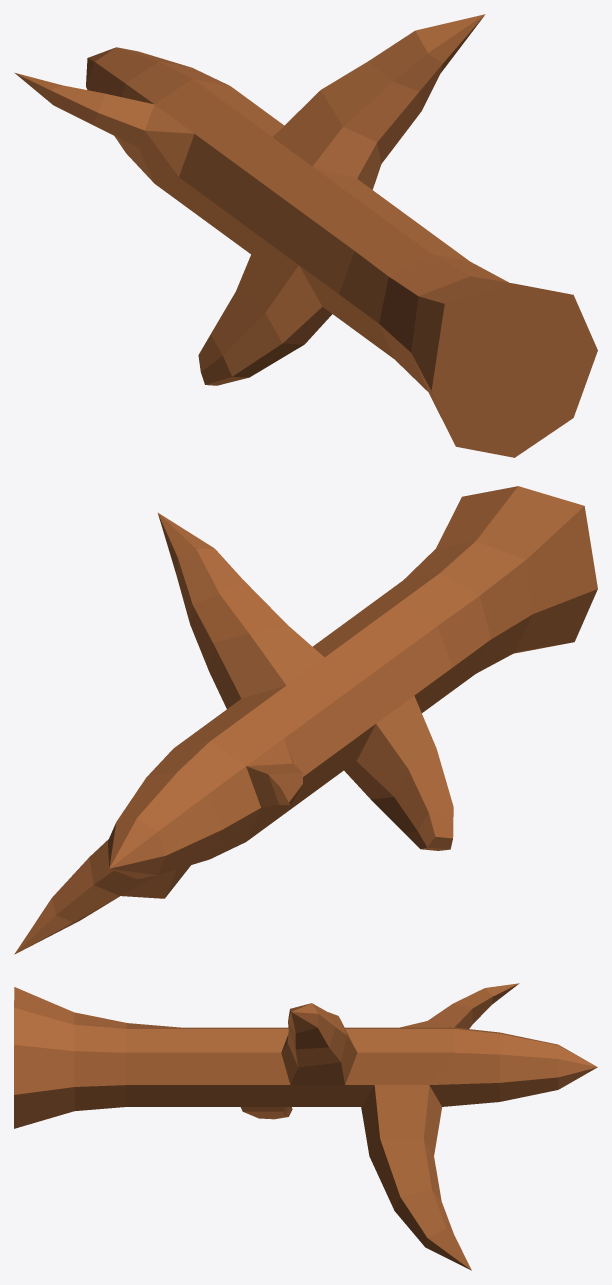
The model's file is tronco004.fbx.
3 renders of one model, top to bottom at view 1: azimuth 30°, elevation 25°; view 2: azimuth 150°, elevation 25°; view 3: azimuth 270°, elevation 25°, orthographic. The views are drawn at different scales.
Visible parts, largest first — view 1: Cylinder; view 2: Cylinder; view 3: Cylinder.
Part boxes in pixels (left/top/right/bottom): Cylinder: left=14, top=14, right=597, bottom=457; Cylinder: left=14, top=486, right=597, bottom=954; Cylinder: left=14, top=983, right=597, bottom=1270.
Size of the model in its own units: 301 by 330 by 690.
